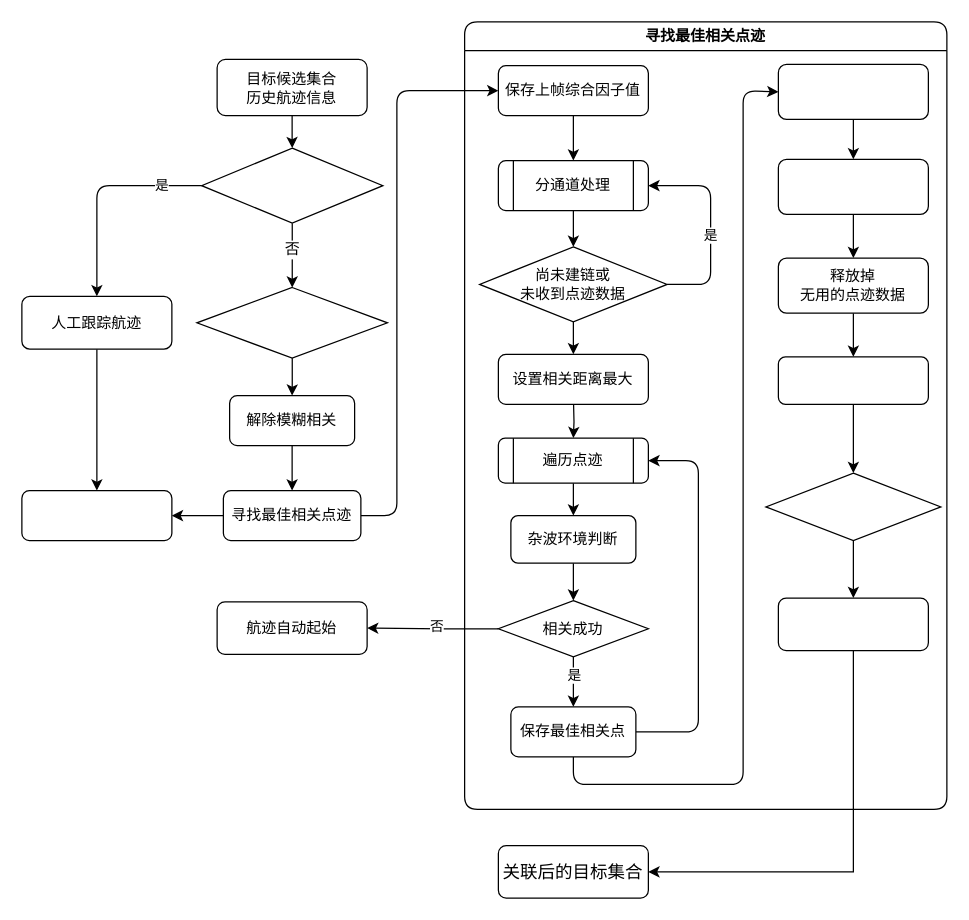
Image size: 969x920. Some labels were removed from this diagram. Here are the shapes that lost their labels. From the top down, the centre of each, then its label:
the point at 852,91: 将最佳相关点迹数据送相关点迹链
the point at 291,185: 航迹为空或已删除
the point at 852,186: 保存所有航迹精相关点迹
the point at 292,322: 存在模糊相关航迹
the point at 852,380: 闭环点数+1
the point at 96,515: 将航迹批号 送入跟踪队列中
the point at 853,506: 收到合适点迹
the point at 852,624: 保存隶属度
